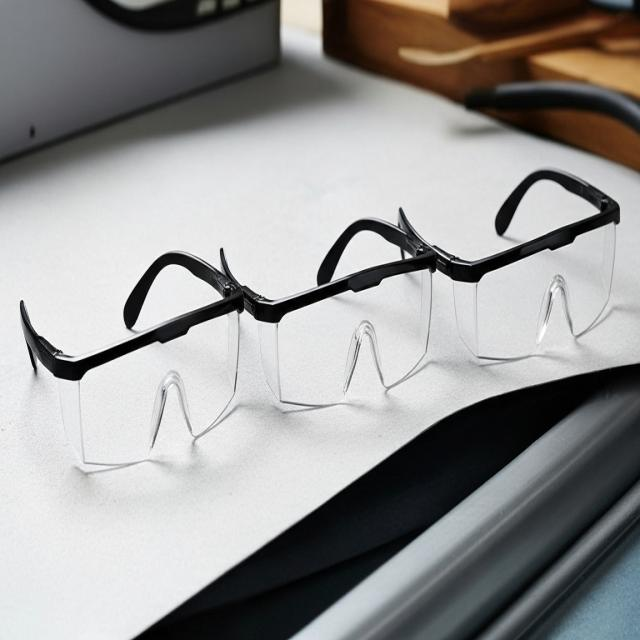oculos-epi: (20, 168, 619, 464)
